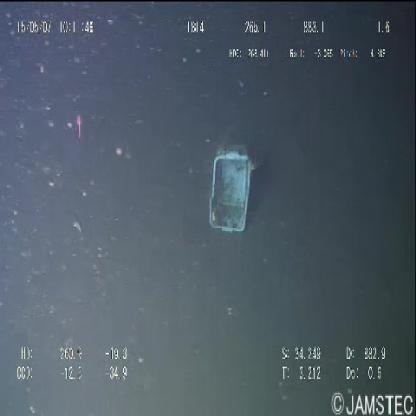Rác: (210, 150, 254, 236)
